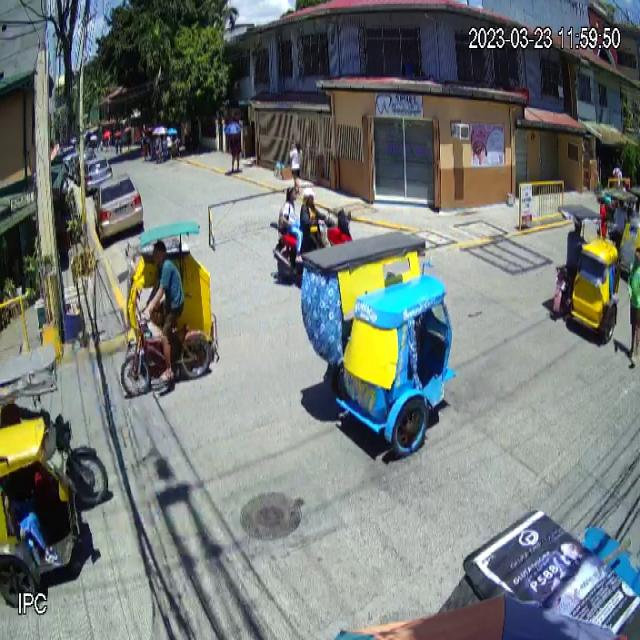Car: (94, 175, 143, 242)
Tricycle: (296, 231, 452, 454), (0, 344, 111, 608), (121, 220, 216, 392), (551, 204, 621, 348)
